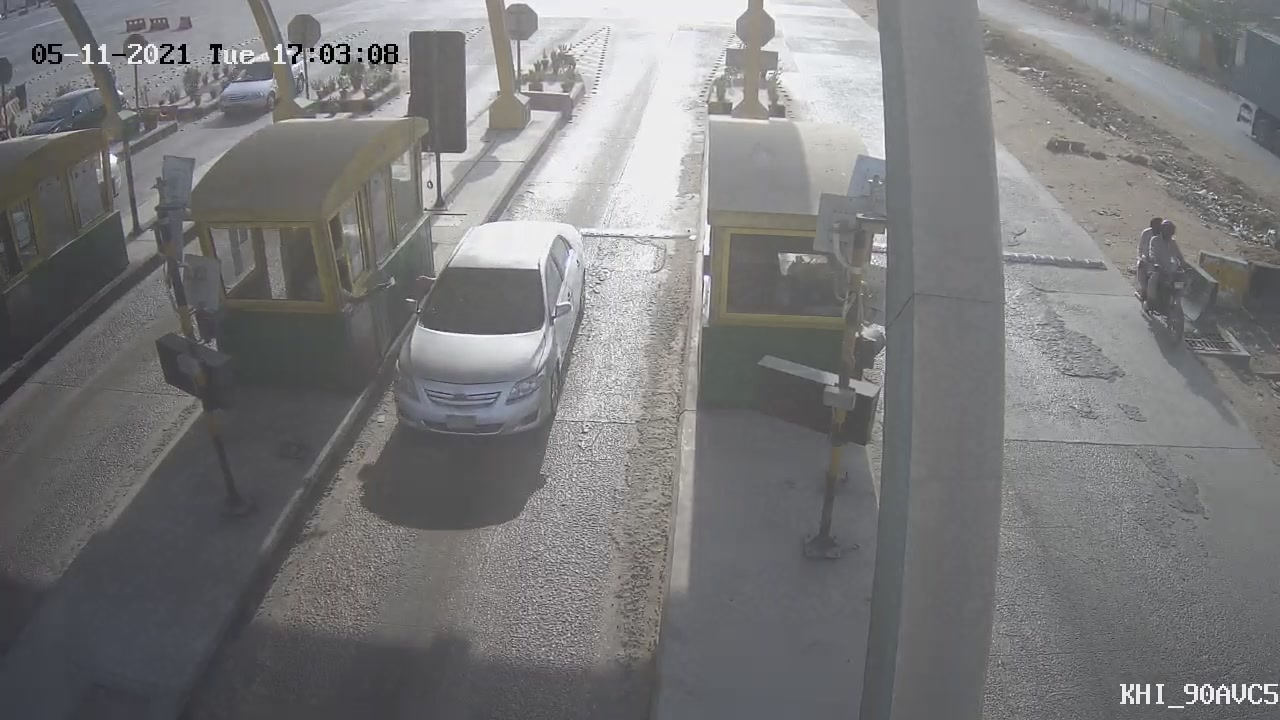F1: (365, 191, 616, 461)
